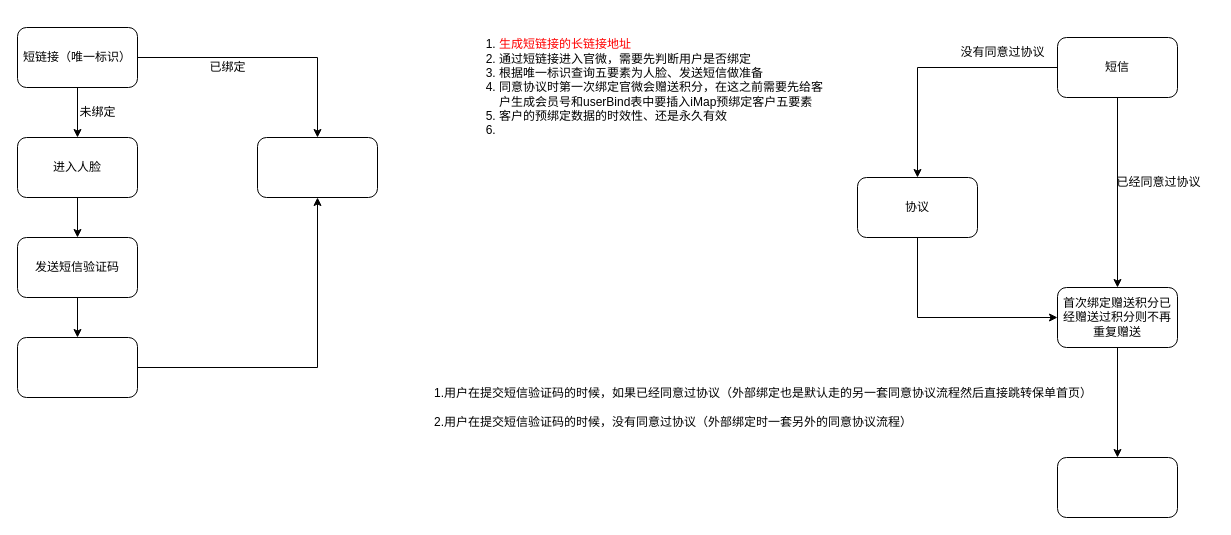
The diagram is 1231 pixels wide and 535 high, and some of its shapes have lost their labels. Here are the shapes that lost their labels. From the top down, the centre of each, then its label:
At (x=317, y=167): "保单列表首页".
At (x=77, y=367): "进入协议页面".
At (x=1117, y=487): "保单首页".
